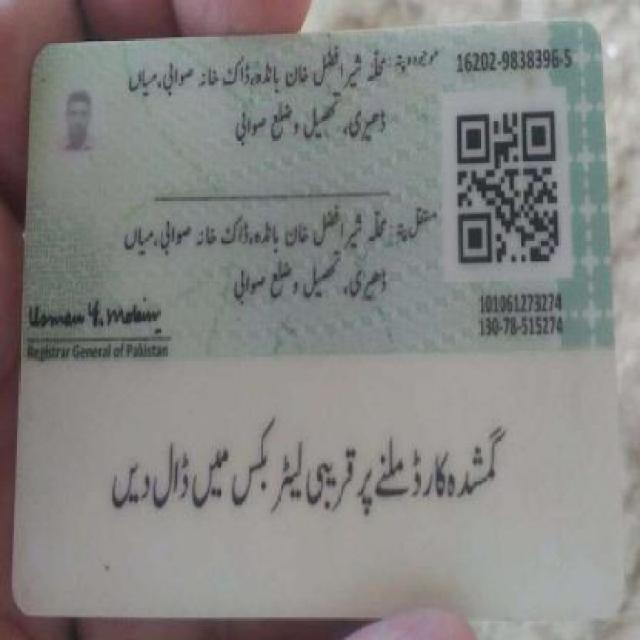Back: (17, 32, 618, 623)
